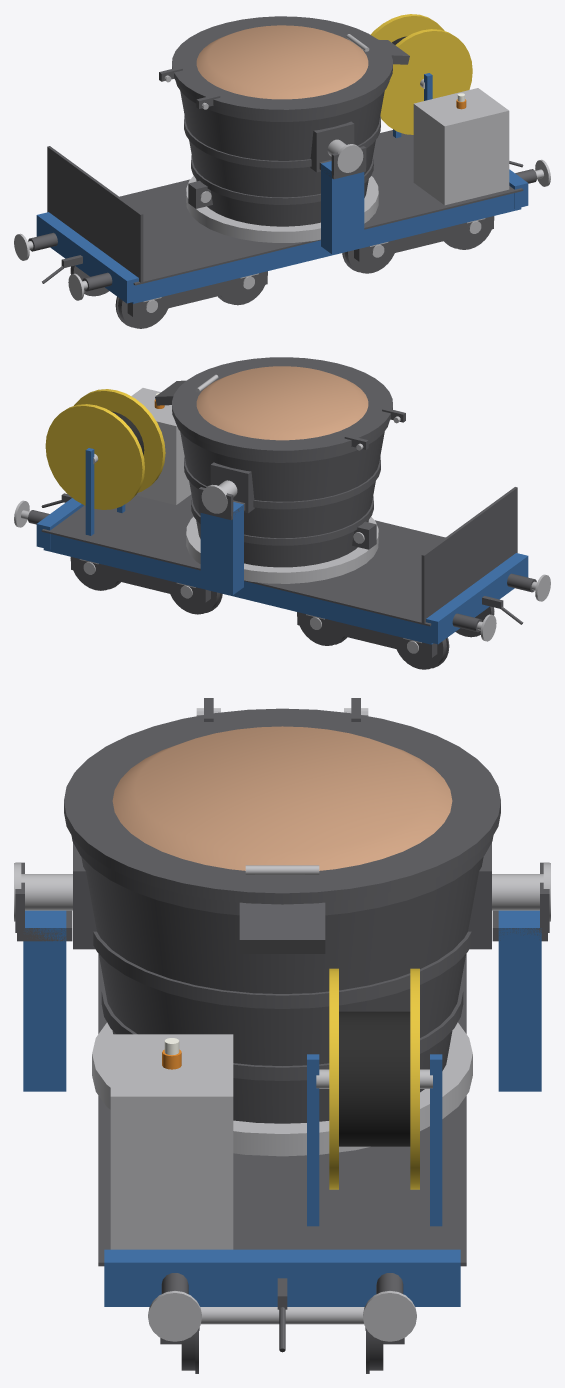
File: SM_LadleTransferCar.fbx
3 views of the same model, one above another, from view 1: azimuth 30°, elevation 25°; view 2: azimuth 150°, elevation 25°; view 3: azimuth 270°, elevation 25° (orthographic). The views are drawn at different scales.
Visible parts, largest first — view 1: LTC_Body, LTC_Ladle, LTC_Lid, LTC_CableReel, LTC_Bogie2_Frame, LTC_Bogie1_Frame, LTC_Bogie2_WS1, LTC_Bogie1_WS1, LTC_Bogie1_WS2, LTC_Bogie2_WS2; view 2: LTC_Body, LTC_Ladle, LTC_Lid, LTC_CableReel, LTC_Bogie2_Frame, LTC_Bogie1_Frame, LTC_Bogie2_WS1, LTC_Bogie1_WS1, LTC_Bogie1_WS2, LTC_Bogie2_WS2; view 3: LTC_Body, LTC_Lid, LTC_Ladle, LTC_CableReel, LTC_Bogie1_WS2.
Boxes of the visible parts, left/top/right/bottom form: LTC_Body: left=14, top=73, right=550, bottom=303; LTC_Ladle: left=175, top=40, right=409, bottom=226; LTC_Lid: left=159, top=16, right=392, bottom=115; LTC_CableReel: left=370, top=14, right=472, bottom=134; LTC_Bogie2_Frame: left=127, top=271, right=267, bottom=316; LTC_Bogie1_Frame: left=354, top=216, right=493, bottom=261; LTC_Bogie2_WS1: left=70, top=265, right=168, bottom=328; LTC_Bogie1_WS1: left=342, top=244, right=394, bottom=273; LTC_Bogie1_WS2: left=444, top=216, right=494, bottom=249; LTC_Bogie2_WS2: left=218, top=271, right=267, bottom=305; LTC_Body: left=14, top=388, right=550, bottom=644; LTC_Ladle: left=155, top=380, right=389, bottom=567; LTC_Lid: left=172, top=357, right=405, bottom=456; LTC_CableReel: left=45, top=389, right=165, bottom=509; LTC_Bogie2_Frame: left=297, top=612, right=437, bottom=657; LTC_Bogie1_Frame: left=71, top=557, right=210, bottom=602; LTC_Bogie2_WS1: left=396, top=606, right=494, bottom=669; LTC_Bogie1_WS1: left=170, top=585, right=222, bottom=614; LTC_Bogie1_WS2: left=70, top=557, right=120, bottom=590; LTC_Bogie2_WS2: left=297, top=612, right=347, bottom=645; LTC_Body: left=15, top=862, right=549, bottom=1352; LTC_Lid: left=64, top=698, right=500, bottom=904; LTC_Ladle: left=14, top=836, right=550, bottom=1123; LTC_CableReel: left=316, top=968, right=432, bottom=1189; LTC_Bogie1_WS2: left=181, top=1307, right=383, bottom=1373.
Size of the model in its own units: 892 by 381 by 437.
